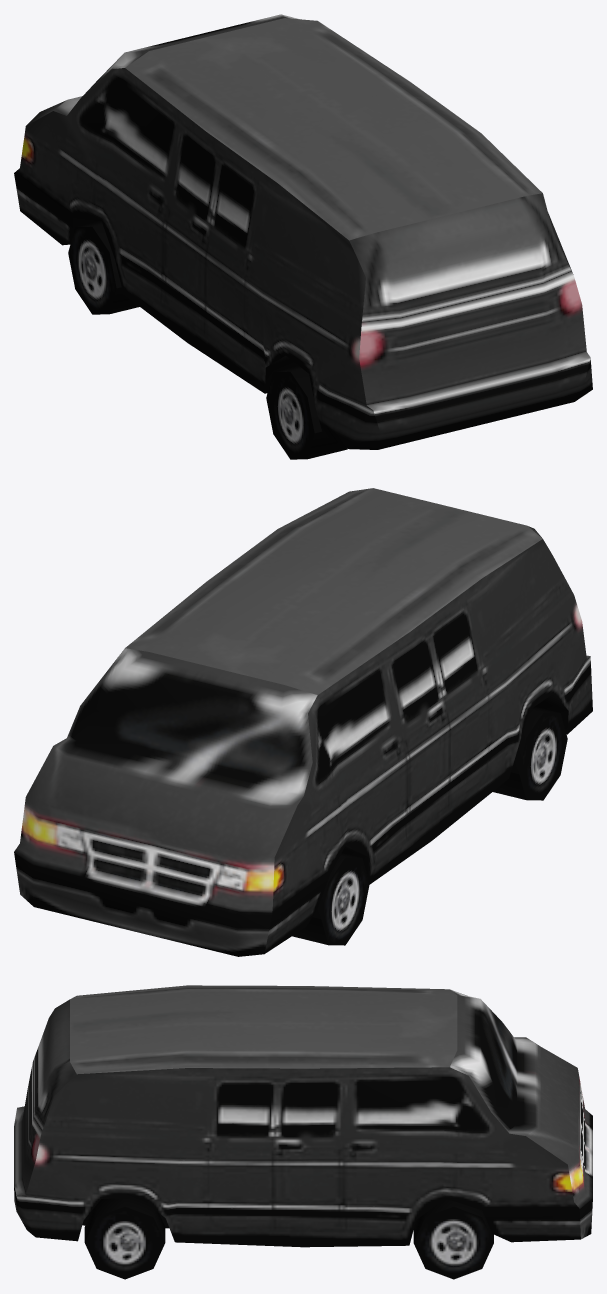
File: black_van.obj
The picture shows the model from 3 angles, top to bottom: view 1: azimuth 30°, elevation 25°; view 2: azimuth 150°, elevation 25°; view 3: azimuth 270°, elevation 25°; orthographic projection. The views are drawn at different scales.
Visible parts, largest first — view 1: FurgoneCPU; view 2: FurgoneCPU; view 3: FurgoneCPU.
Boxes of the visible parts, x1,y1,x2,y2 form: FurgoneCPU: [14, 14, 592, 459]; FurgoneCPU: [14, 488, 592, 956]; FurgoneCPU: [14, 985, 592, 1279].
Size of the model in its own units: 0.2368 by 0.2195 by 0.5541.
